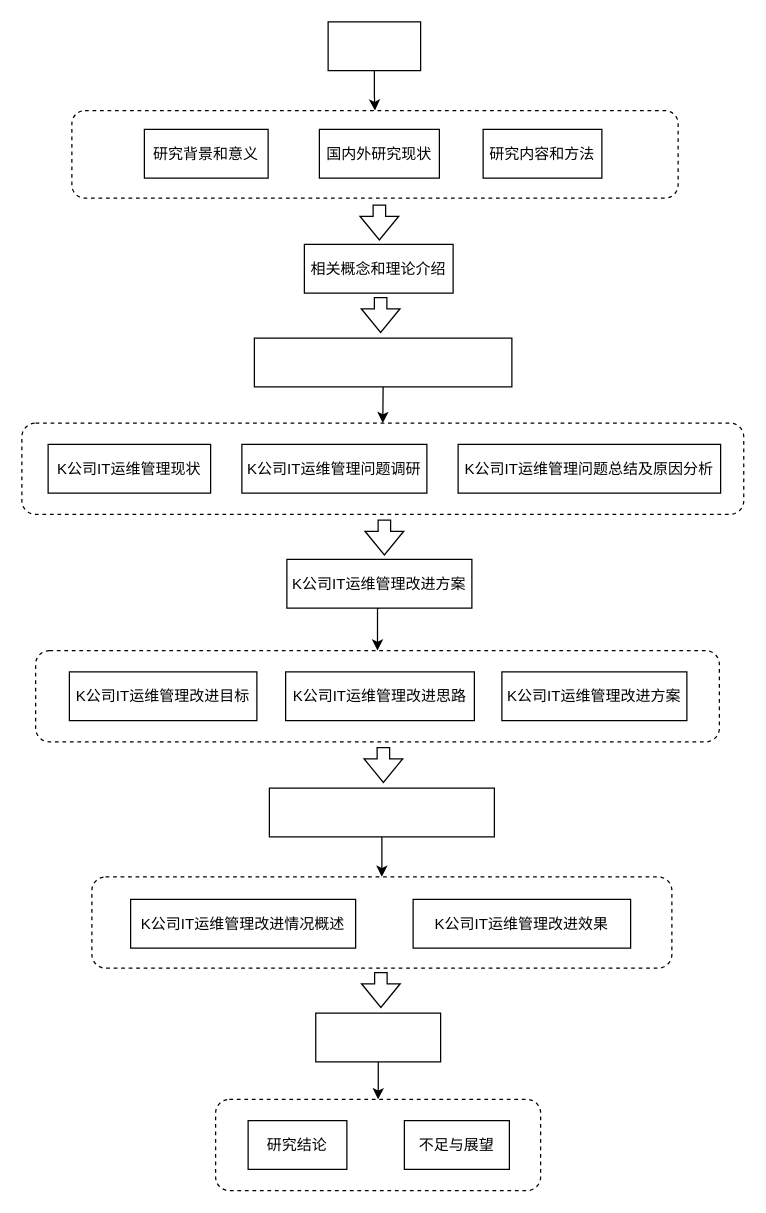
This 766x1213 diagram has some shape labels left out. Here are the shapes that lost their labels. From the top down, the centre of each, then its label:
pixel 374 46: 绪论
pixel 382 362: K公司IT运维管理的现状和问题 研究
pixel 381 812: K公司IT运维管理改进实施效果
pixel 377 1037: 研究结论与展望
